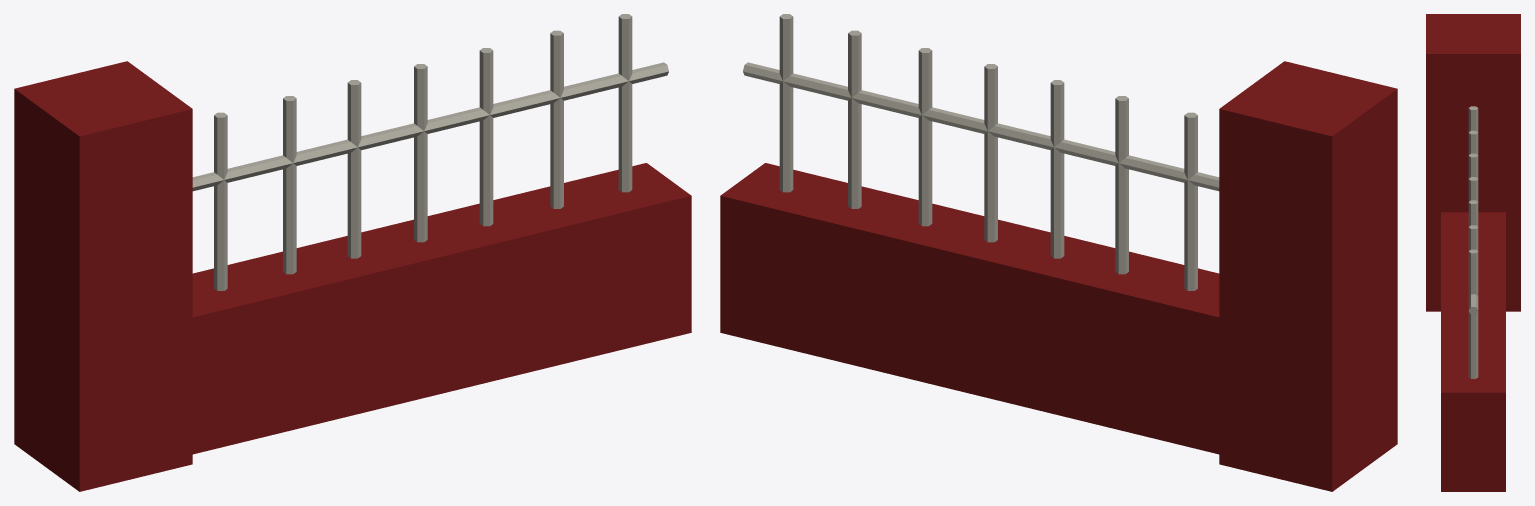
The model's file is BrickFenceColoured.fbx.
3 renders of one model, left to right at view 1: azimuth 30°, elevation 25°; view 2: azimuth 150°, elevation 25°; view 3: azimuth 270°, elevation 25°, orthographic. The views are drawn at different scales.
Visible parts, largest first — view 1: Cube.001, Cylinder.007; view 2: Cube.001, Cylinder.007; view 3: Cube.001, Cylinder.007.
Part boxes in pixels (<box>): Cube.001: <box>14,61,691,491</box>; Cylinder.007: <box>192,14,668,290</box>; Cube.001: <box>720,61,1397,491</box>; Cylinder.007: <box>743,14,1219,290</box>; Cube.001: <box>1426,14,1520,491</box>; Cylinder.007: <box>1468,106,1478,378</box>.
Bounding box in the file's own units: 490 × 268 × 89.1.
